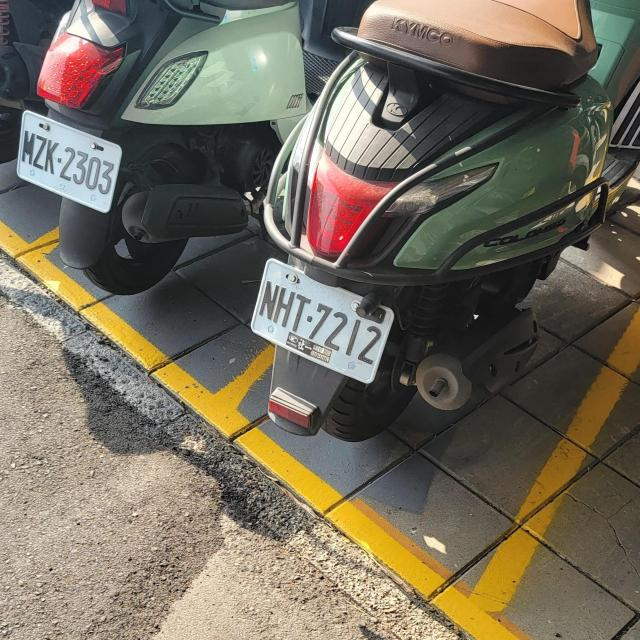W: (246, 258, 399, 385), (11, 109, 127, 216)
